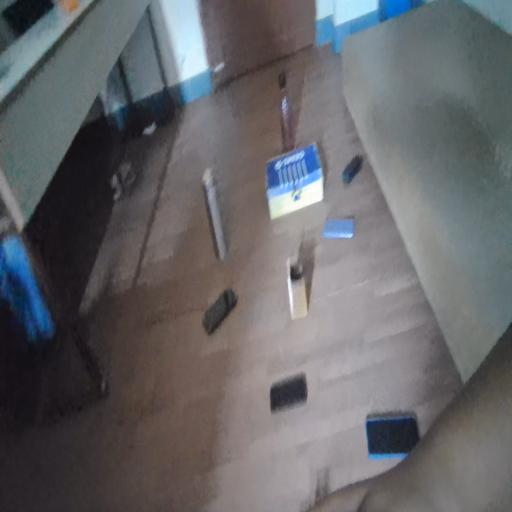Bottle: (273, 73, 297, 143)
